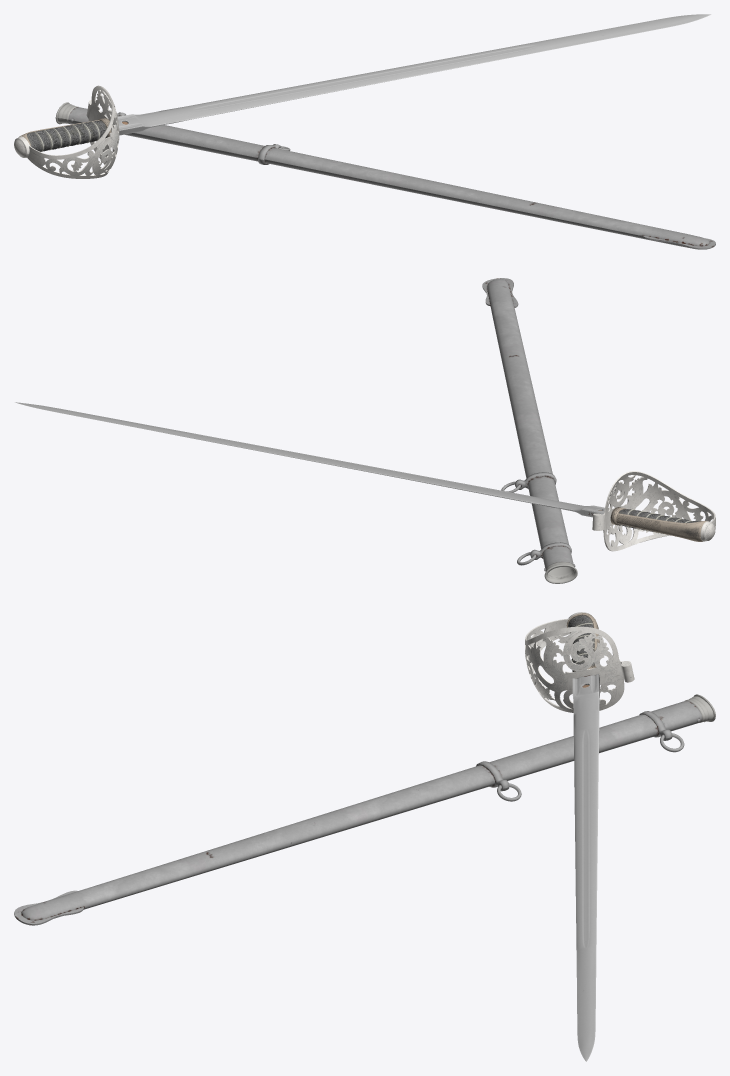
The model's file is highland_officers_sword.glb.
3 views of the same model, one above another, from view 1: azimuth 30°, elevation 25°; view 2: azimuth 150°, elevation 25°; view 3: azimuth 270°, elevation 25° (orthographic). The views are drawn at different scales.
Parts seen in each view (by area): view 1: Sword-material (×2); view 2: Sword-material (×2); view 3: Sword-material (×2).
Part boxes in pixels (x1,y1,x2,y2): Sword-material (×2): [14, 14, 715, 249]; Sword-material (×2): [15, 278, 715, 583]; Sword-material (×2): [14, 612, 715, 1061].
Bounding box in the file's own units: 0.946 × 0.0983 × 0.7041.
1 material, 1 textured.
